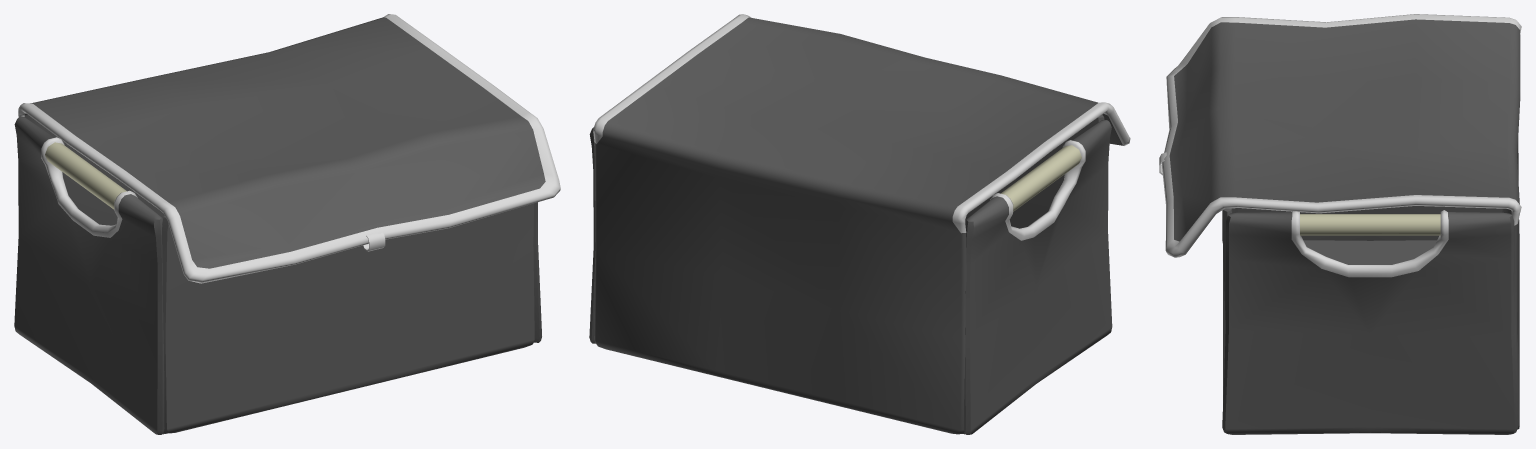
The model's file is BYX12001.FBX.
3 renders of one model, left to right at view 1: azimuth 30°, elevation 25°; view 2: azimuth 150°, elevation 25°; view 3: azimuth 270°, elevation 25°, orthographic. The views are drawn at different scales.
Visible parts, largest first — view 1: BYX12001; view 2: BYX12001; view 3: BYX12001.
Boxes of the visible parts, <box> form: BYX12001: <box>14,14,560,434</box>; BYX12001: <box>589,14,1130,434</box>; BYX12001: <box>1159,14,1521,434</box>.
Bounding box in the file's own units: 44 × 34 × 24.5.
